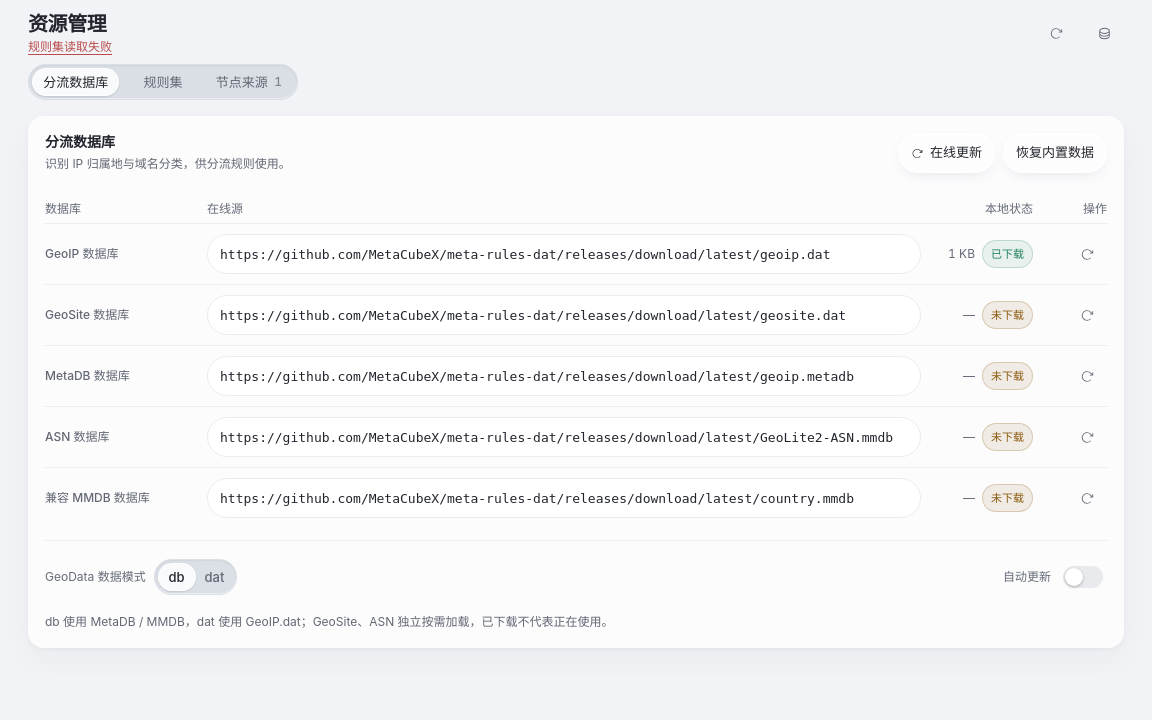
资源错误摘要指向失败分类，切换后重试读取且保留其他成功数据
Check: the element with class "geo-source-list" shows "已下载", box [991,247,1024,261]
Click the button with aria-label "查看规则集读取错误" at (70, 47), box [28,40,112,54]
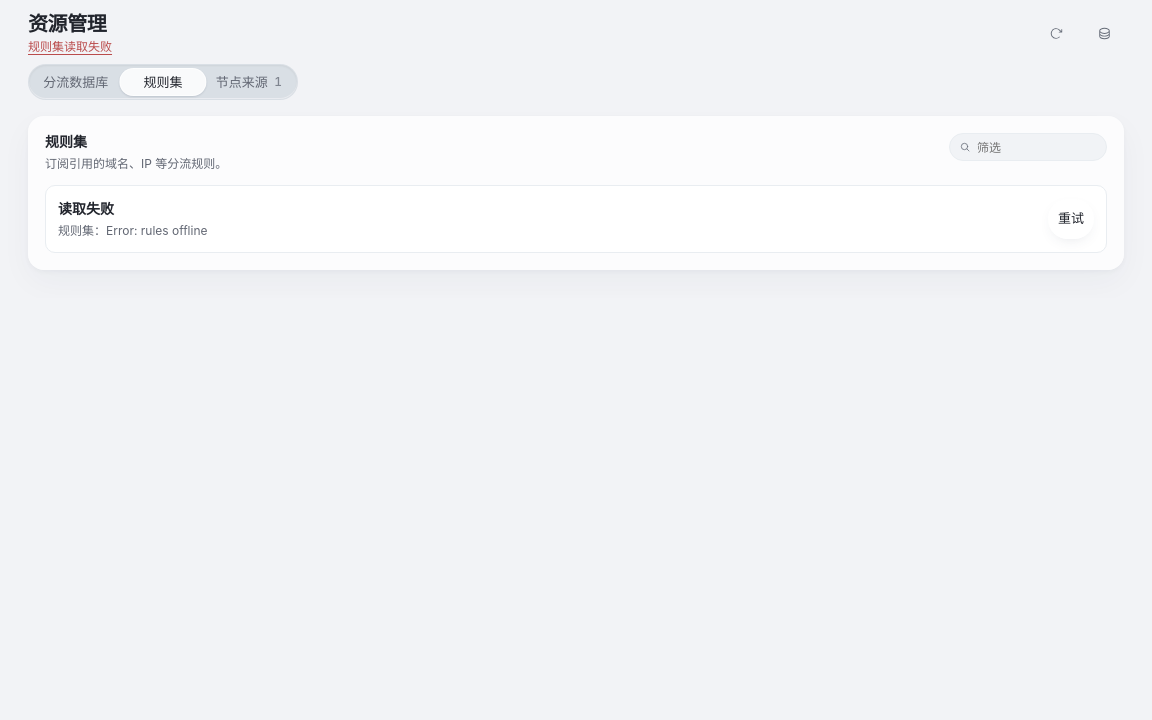
Check: the tab "规则集" is shown, box [119,68,207,96]
Check: the message with class "read-error" shows "rules offline", box [58,223,208,238]
Click the button "重试" at (1071, 219), box [1048,199,1094,239]
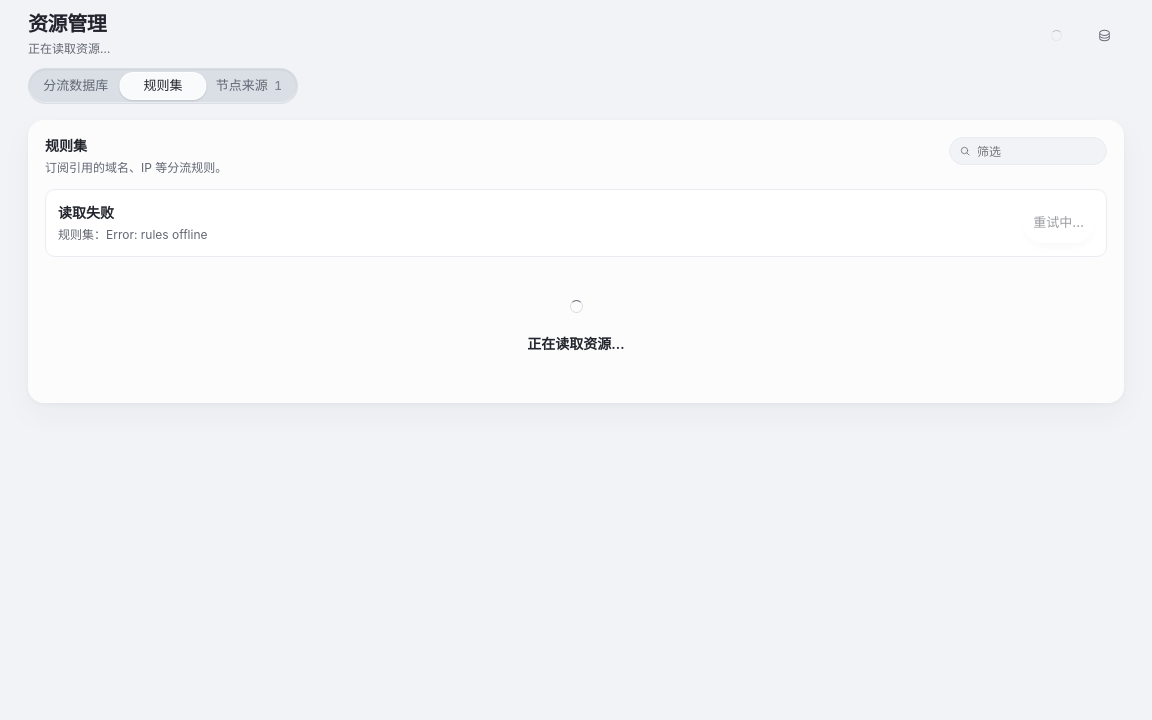
Check: the button "重试中…" is disabled
Check: the button named "刷新资源" is disabled, box [1036,19,1076,51]
Click the button "重试中…" at (1059, 223), box [1023,203,1094,243]
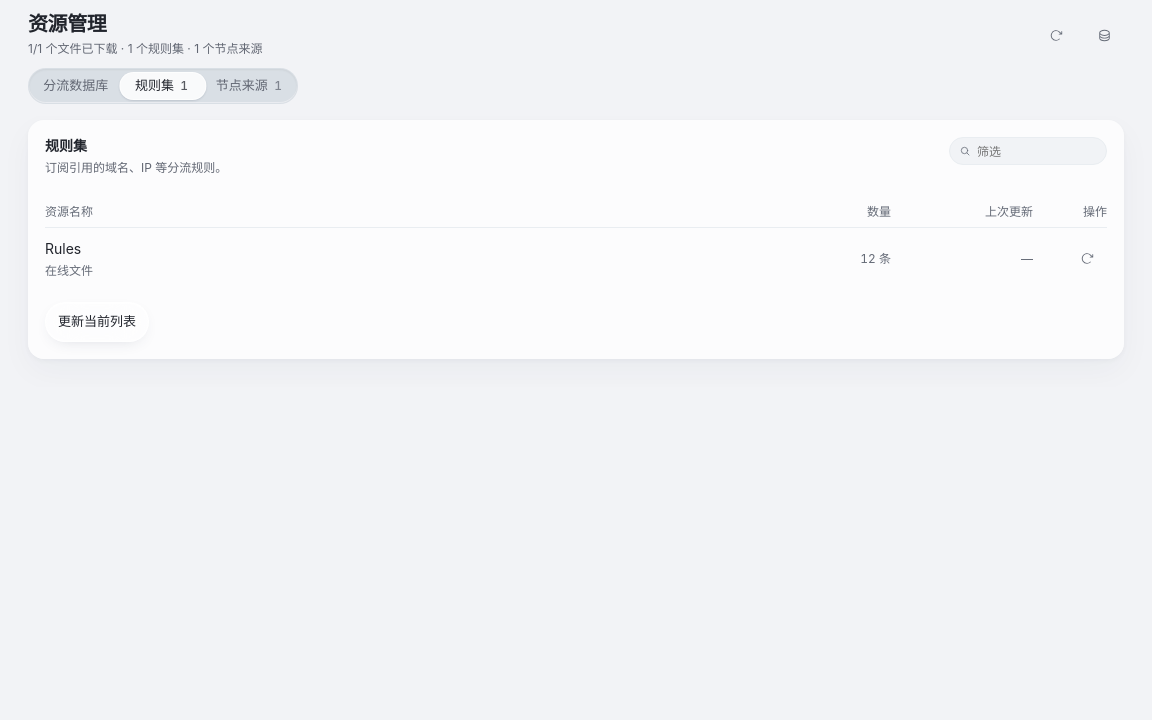
Check: the text "Rules" is shown, box [45,238,81,259]
Check: the text "读取失败" is gone
Click the tab "节点来源 1" at (250, 86), box [207,72,294,100]
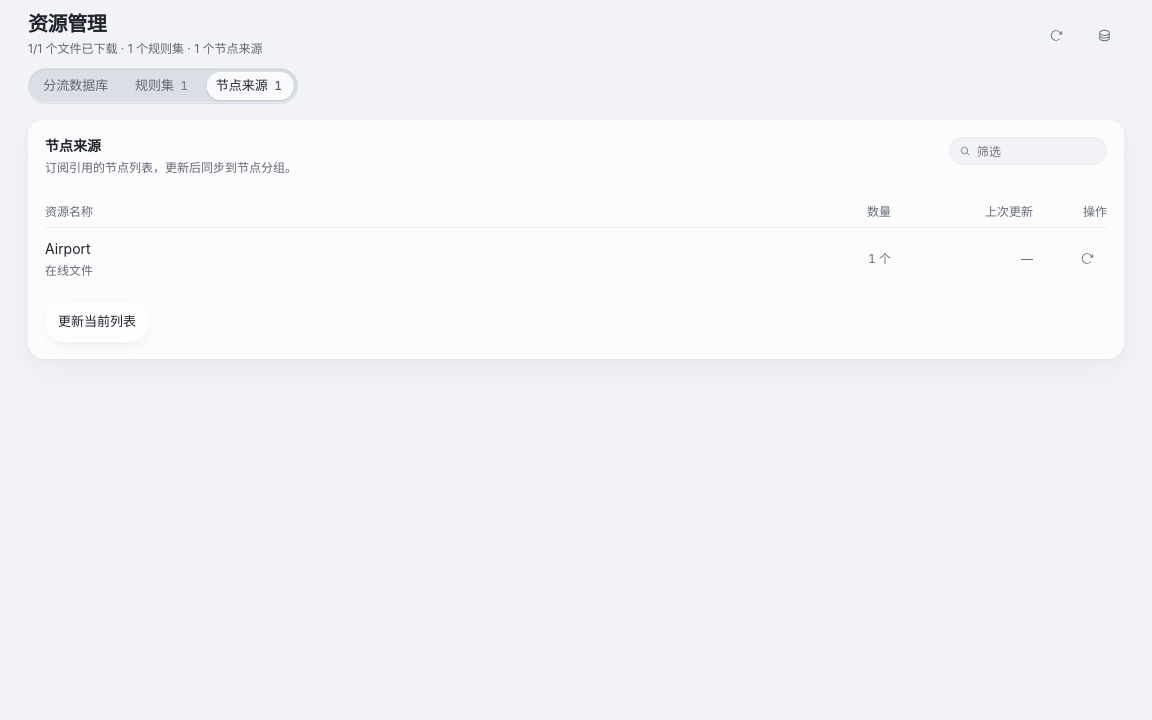
Check: the text "Airport" is shown, box [45,238,91,259]
